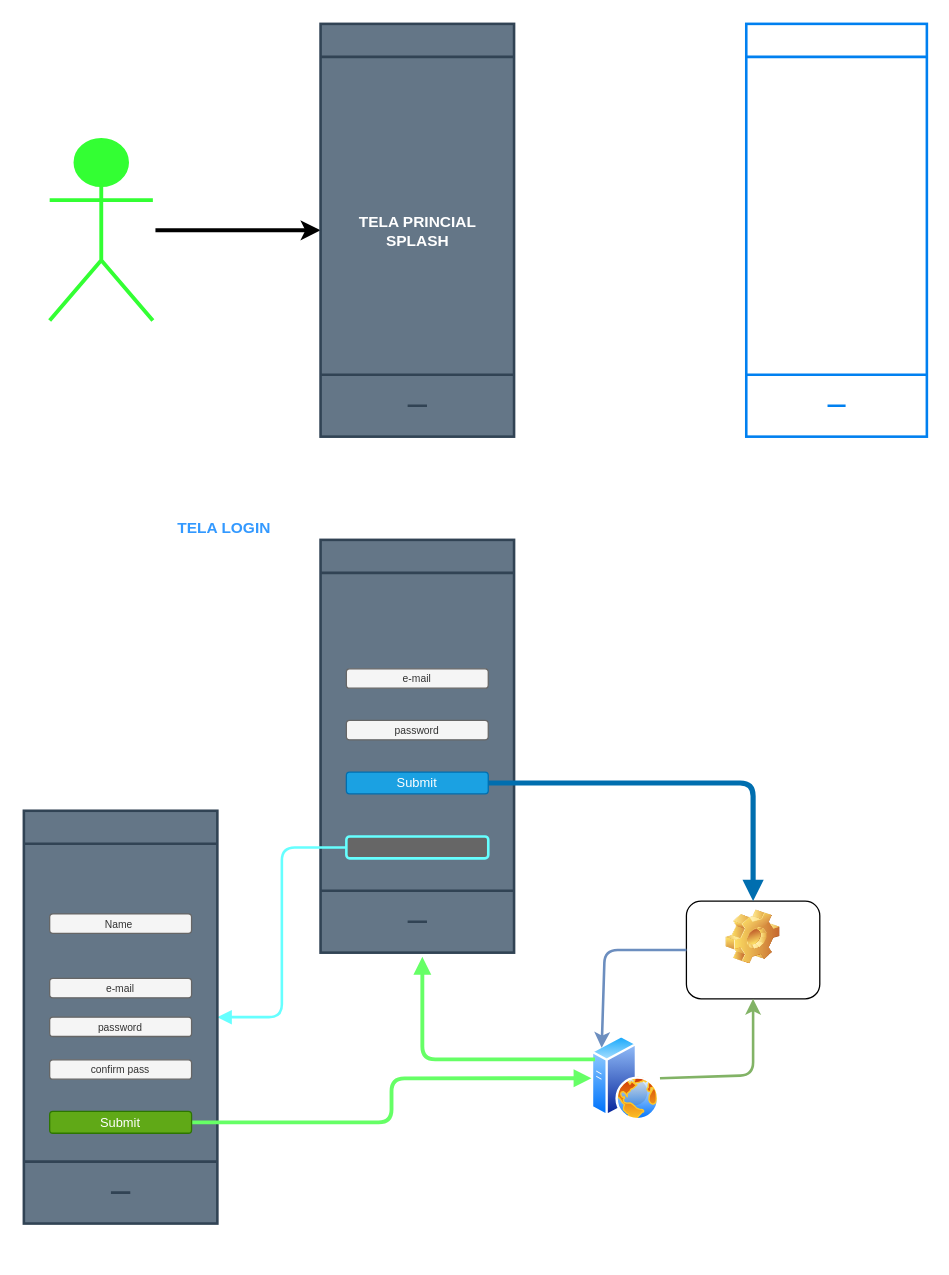
This 949x1275 diagram has some shape labels left out. Here are the shapes that lost their labels. From the top down, the box of each, then its label:
(47, 137, 154, 322): PERSONAL
(344, 835, 489, 859): Create User
(685, 900, 820, 999): Autenticação
